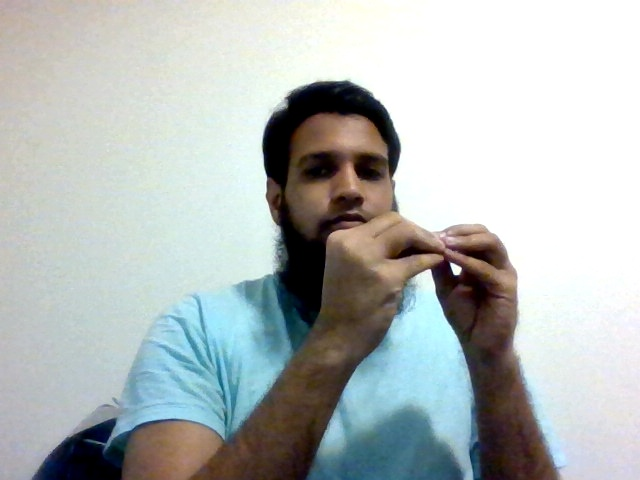more: (317, 208, 522, 359)
